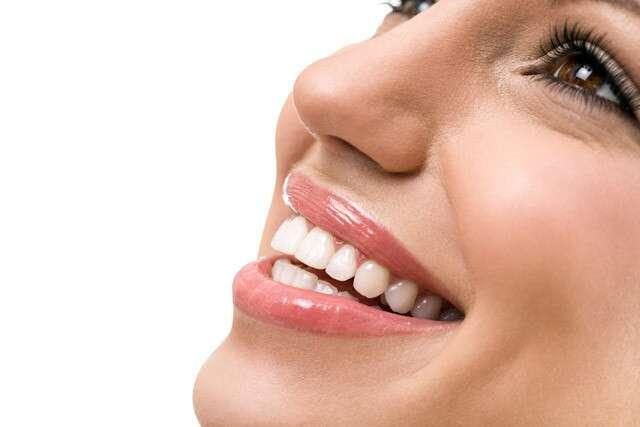normal: (294, 223, 340, 272), (265, 214, 308, 257), (352, 259, 396, 299), (323, 243, 362, 280), (384, 279, 419, 314), (412, 292, 449, 317), (440, 302, 464, 326), (291, 271, 320, 290), (277, 261, 300, 284), (264, 256, 286, 280), (315, 280, 340, 298)
